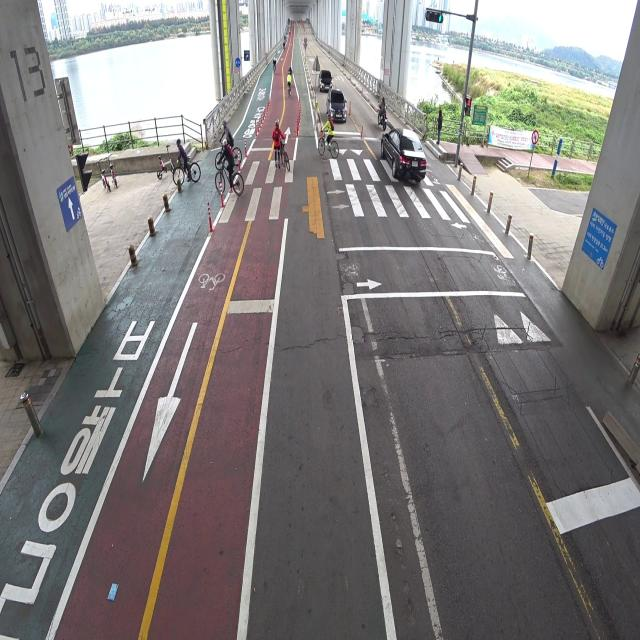Car: (374, 124, 427, 193), (326, 85, 347, 128), (311, 65, 336, 94)
Motorcycle: (375, 95, 388, 133)
